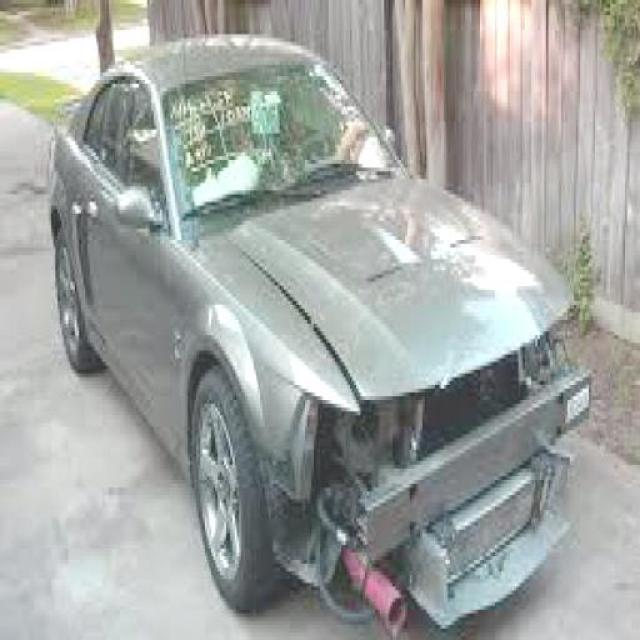car damage: (287, 292, 593, 618)
